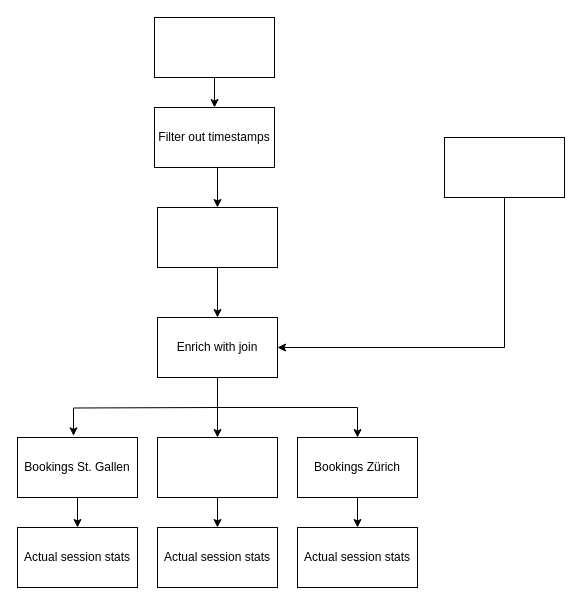
Some shapes in this 582 by 605 pixel diagram are drawn without their labels. Here are the shapes that lost their labels. From the top down, the box of each, then its label:
(154, 16, 274, 78): Bookings
(444, 136, 564, 198): SessionInfos
(156, 206, 278, 268): Translate to anonymize customers
(156, 436, 278, 498): Bookings Bern
